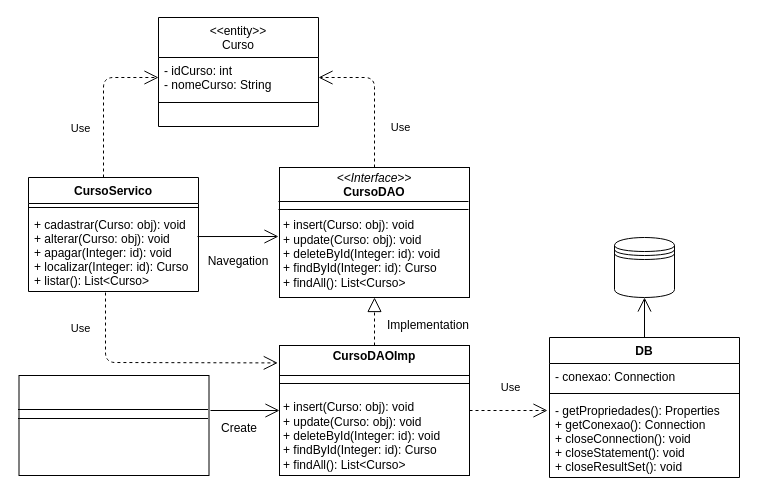
The diagram is 757 pixels wide and 498 high, and some of its shapes have lost their labels. Here are the shapes that lost their labels. From the top down, the centre of each, then its label:
At pixel 644 267: "Banco".
At pixel 113 425: "FactoryDAO + createAlunoDAO(): AlunoDAO + createCursoDAO(): CursoDAO".
